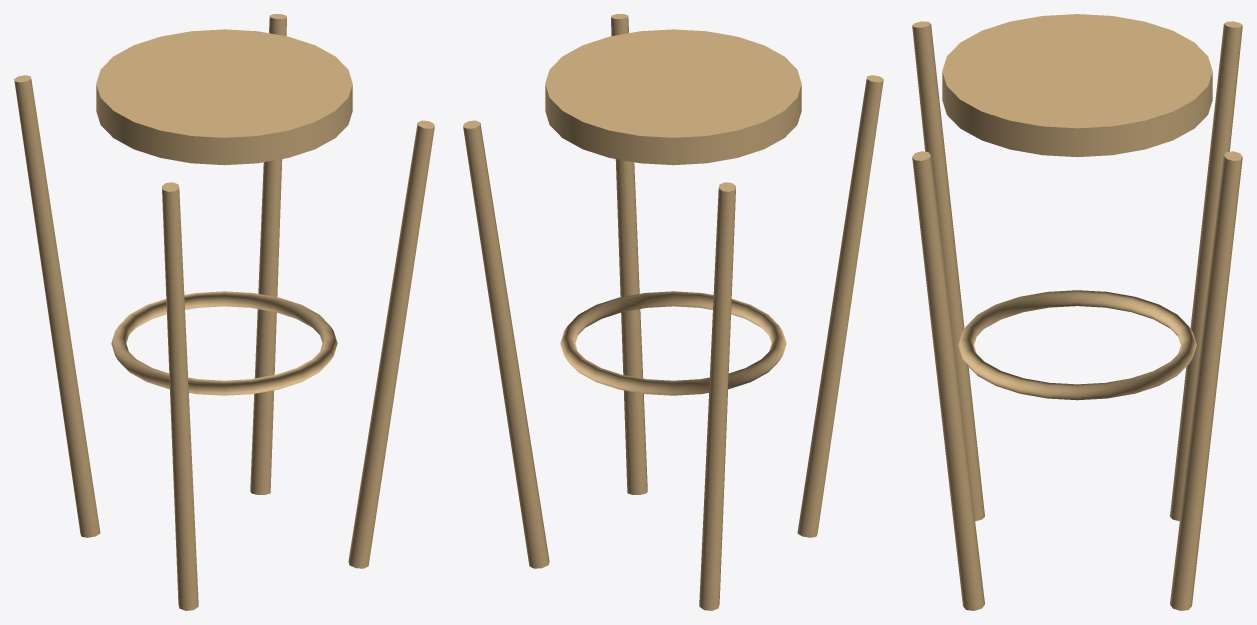
Rendered from oak_stool.glb.
3 renders of one model, left to right at view 1: azimuth 30°, elevation 25°; view 2: azimuth 150°, elevation 25°; view 3: azimuth 270°, elevation 25°, orthographic. The views are drawn at different scales.
Visible parts, largest first — view 1: oak_stool; view 2: oak_stool; view 3: oak_stool.
Boxes of the visible parts, x1,y1,x2,y2 form: oak_stool: [14, 14, 434, 610]; oak_stool: [463, 14, 883, 610]; oak_stool: [912, 14, 1242, 610].
Bounding box in the file's own units: 0.415 × 0.682 × 0.4157.
